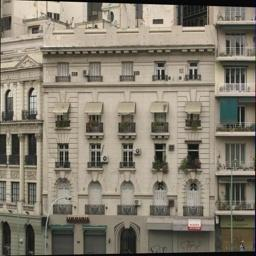building: (43, 19, 215, 256)
